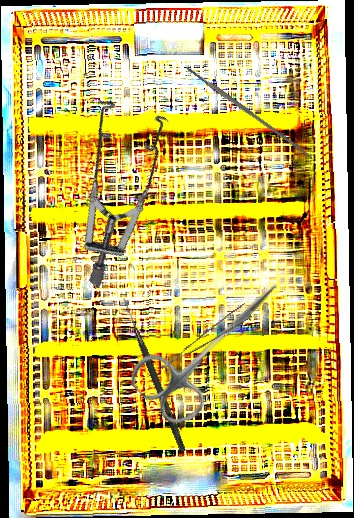Hook Surgical: (118, 297, 189, 453)
Iris Scissors: (123, 254, 302, 433)
Scalpel Handle: (183, 63, 315, 161)
Speculum: (3, 75, 219, 290)
Tissue Forceps: (152, 303, 255, 369)
